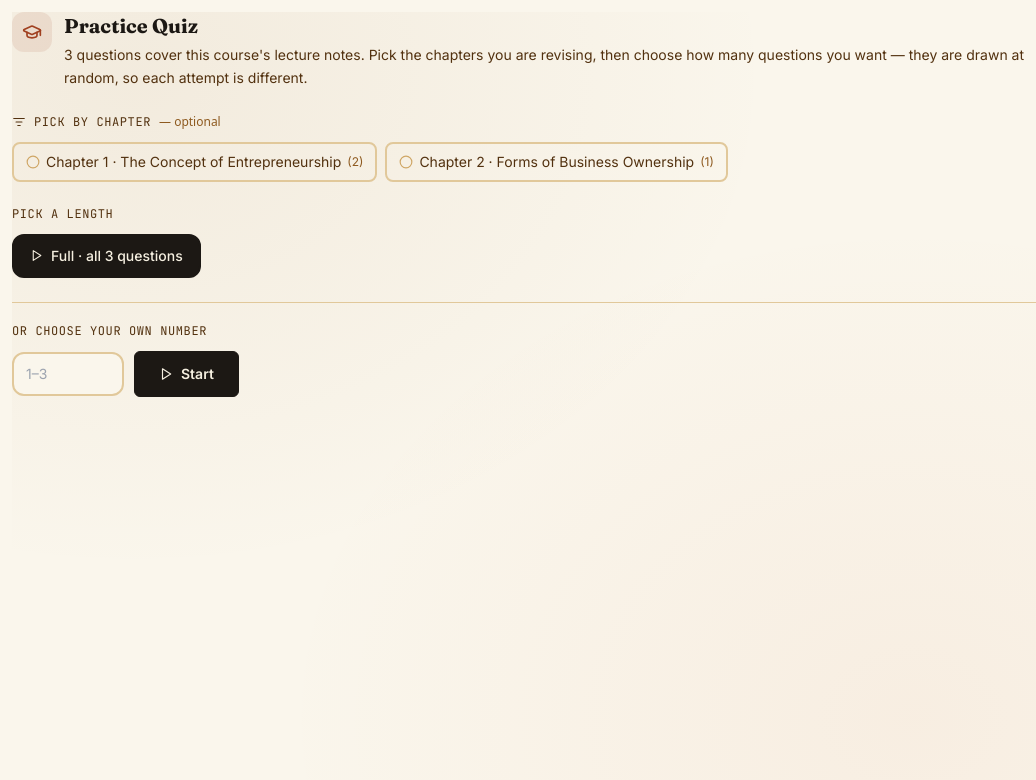
Test case: the chapter picker › narrows the pool the length buttons draw from
The width and height of the screenshot is (1036, 780).
Check: the button "Full · all 3 questions" is shown, box [12,234,201,278]
Click the button "Chapter 2 · Forms of Business Ownership (1)": x=557, y=162 [385,142,728,182]
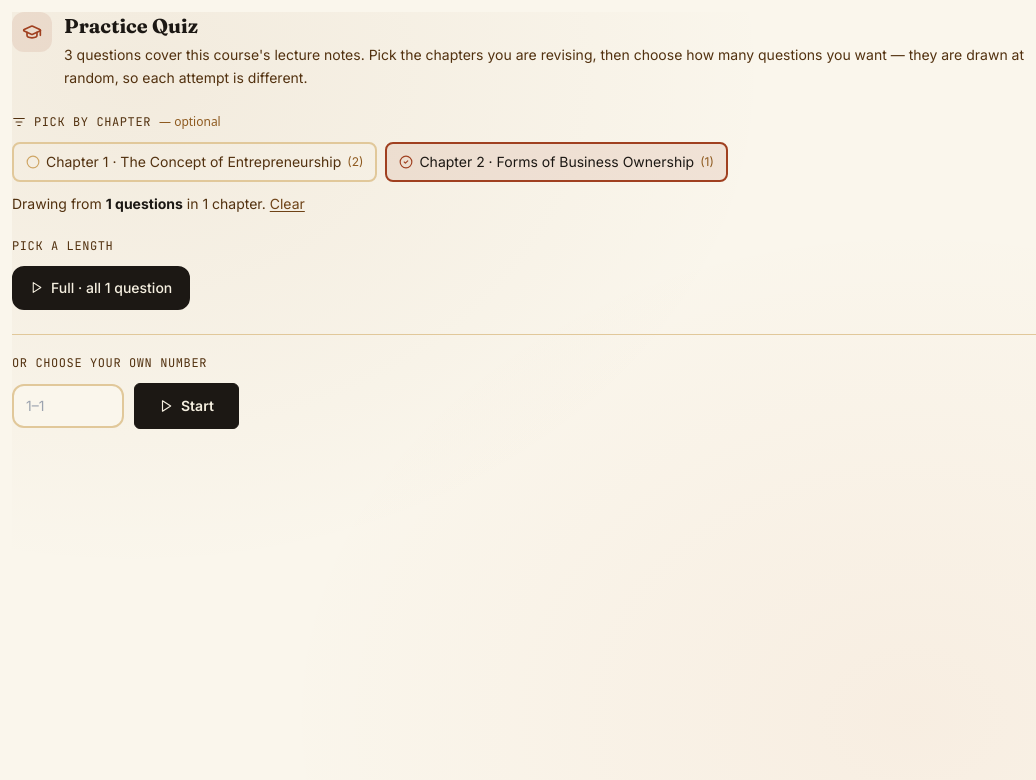
Check: the text "Drawing from 1 questions in 1 chapter. Clear" is shown, box [12,194,305,214]
Check: the button "Full · all 1 question" is shown, box [12,266,190,310]
